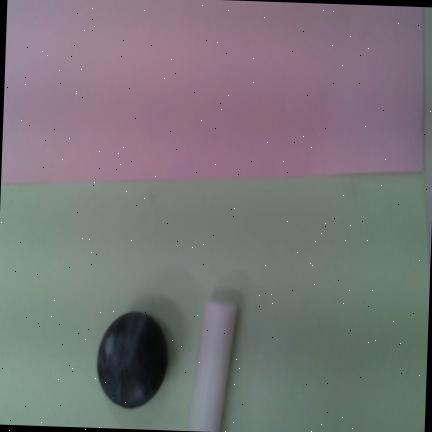Cilindro: (188, 298, 237, 431)
Esfera: (97, 311, 168, 408)
